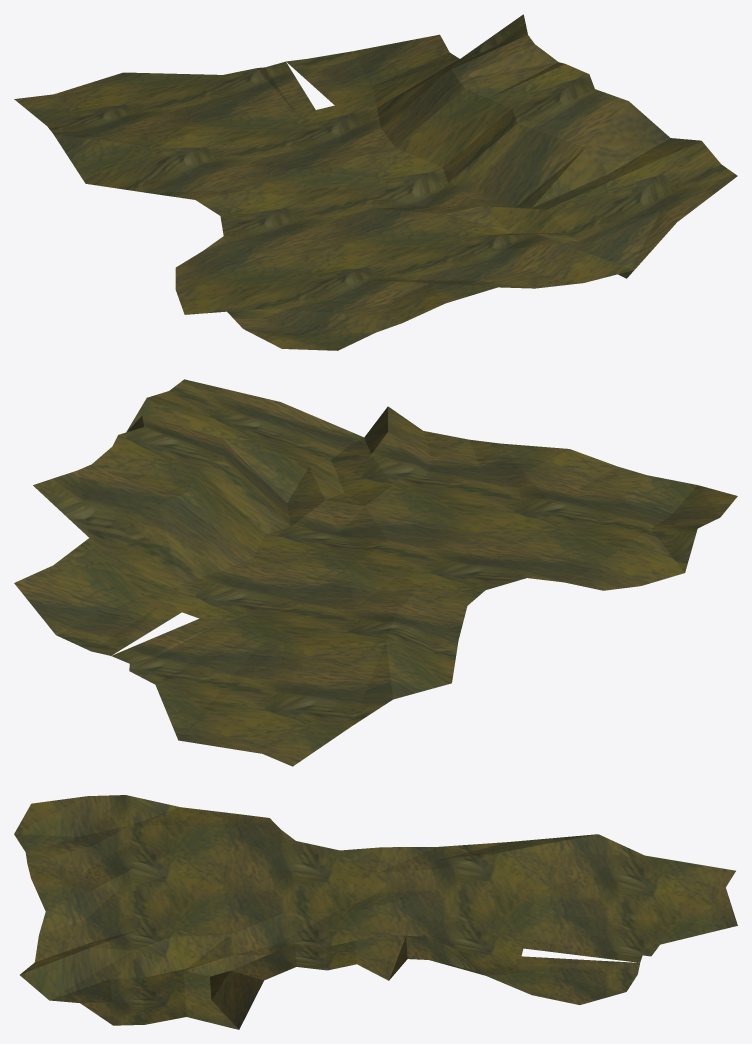
The model's file is Floor_1.gltf.
3 renders of one model, top to bottom at view 1: azimuth 30°, elevation 25°; view 2: azimuth 150°, elevation 25°; view 3: azimuth 270°, elevation 25°, orthographic. The views are drawn at different scales.
Parts seen in each view (by area): view 1: Floor_1; view 2: Floor_1; view 3: Floor_1.
Part boxes in pixels (x1=…): Floor_1: x1=14, y1=14, x2=737, y2=350; Floor_1: x1=14, y1=379, x2=737, y2=766; Floor_1: x1=14, y1=795, x2=737, y2=1029.
Bounding box in the file's own units: 321 × 52.2 × 384.
Materials: 1 (1 with a texture image).
